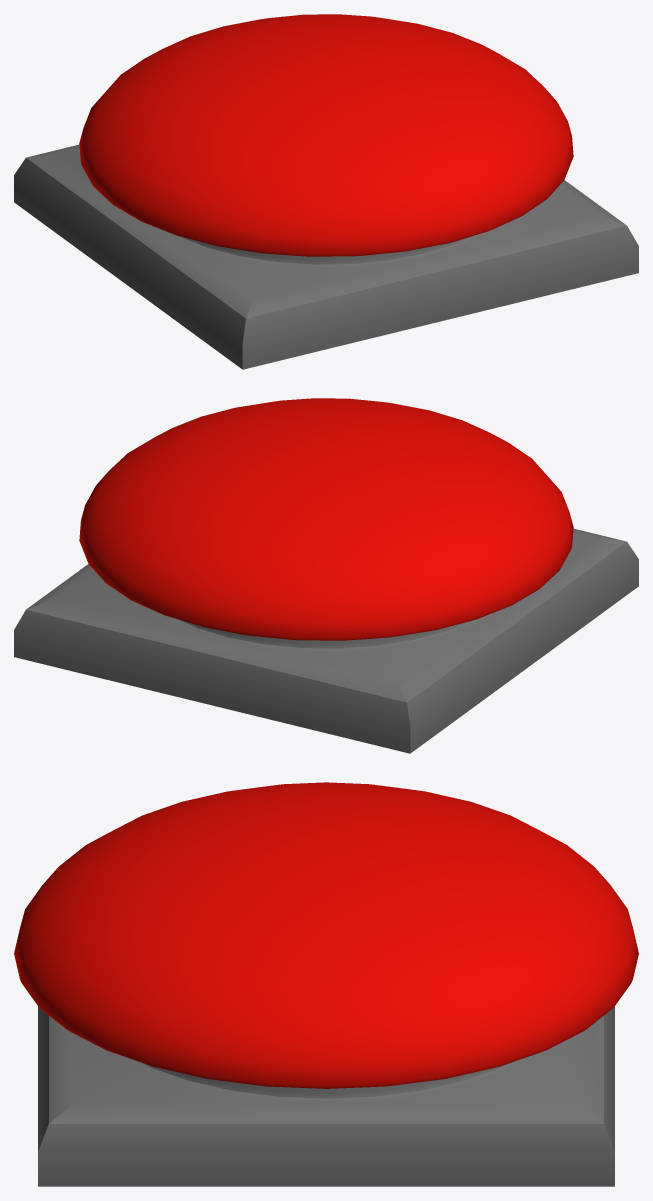
The model's file is Button.fbx.
3 renders of one model, top to bottom at view 1: azimuth 30°, elevation 25°; view 2: azimuth 150°, elevation 25°; view 3: azimuth 270°, elevation 25°, orthographic. The views are drawn at different scales.
Visible parts, largest first — view 1: Sphere, Cube.001; view 2: Sphere, Cube.001; view 3: Sphere, Cube.001.
Part boxes in pixels (x1,y1,x2,y2): Sphere: [79, 14, 573, 256]; Cube.001: [14, 144, 638, 369]; Sphere: [79, 398, 573, 640]; Cube.001: [14, 528, 638, 753]; Sphere: [14, 782, 638, 1088]; Cube.001: [38, 1006, 614, 1186].
Bounding box in the file's own units: 217 × 84.88 × 217.
